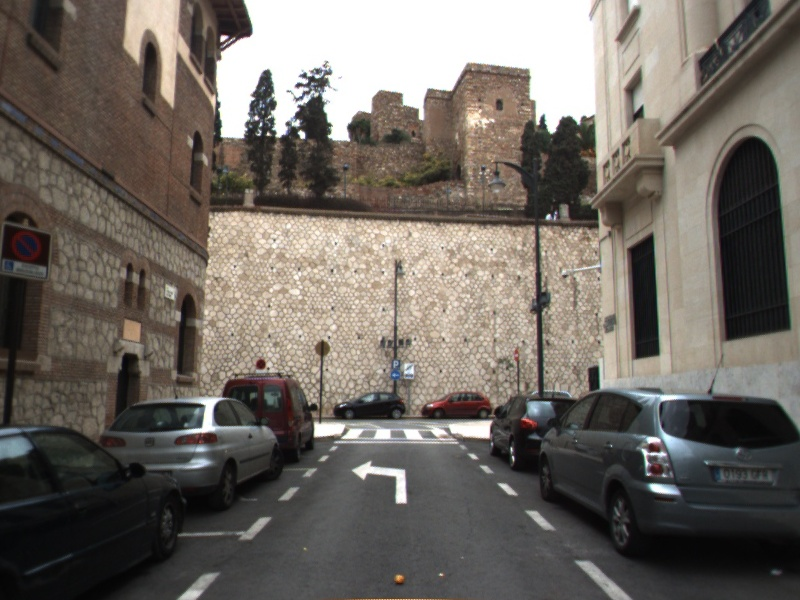LEFT: (350, 458, 409, 506)
